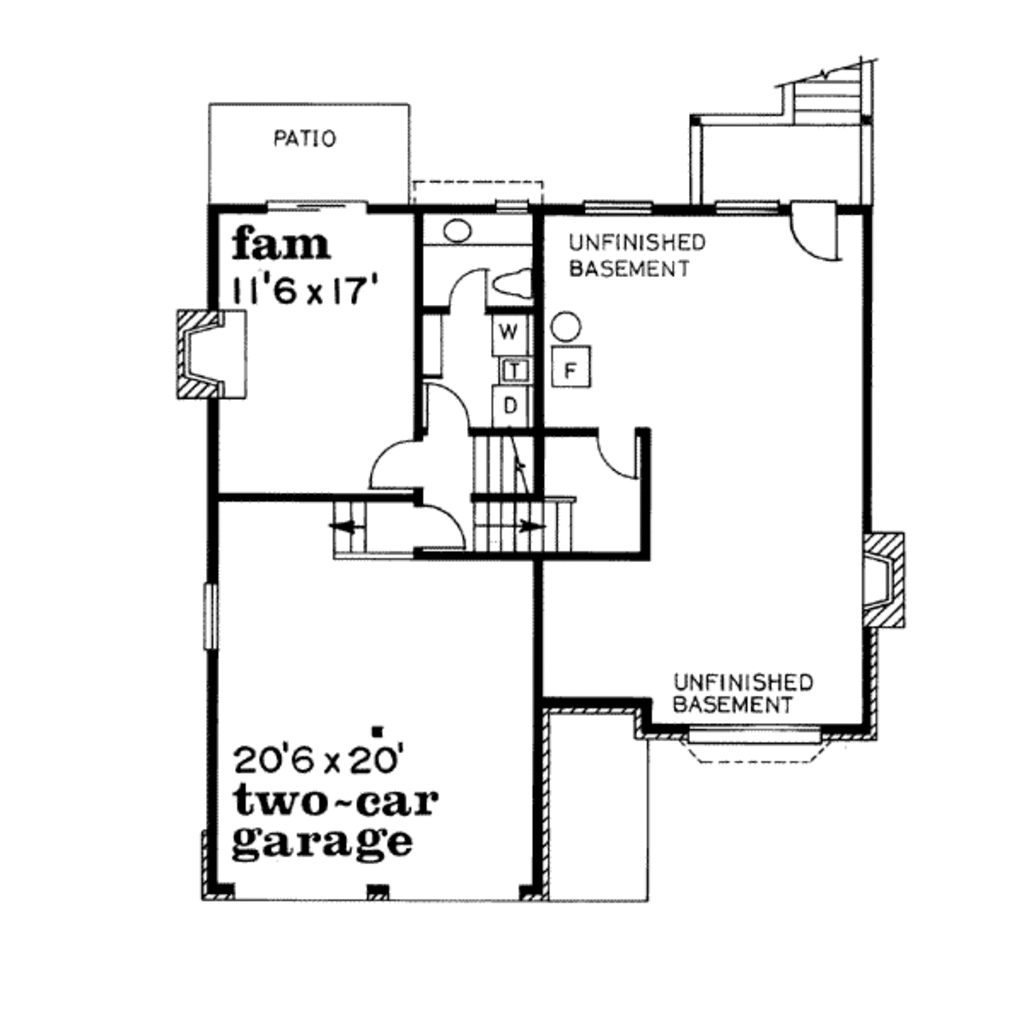door: (786, 199, 852, 264), (583, 422, 656, 478), (417, 497, 475, 555), (363, 439, 425, 492), (420, 382, 478, 436), (439, 264, 494, 316)
large_sink: (497, 263, 545, 307)
small_sink: (428, 210, 494, 242)
stairs: (478, 433, 583, 555), (767, 50, 878, 128), (327, 499, 394, 566)
window: (709, 192, 792, 227), (197, 577, 231, 661), (578, 191, 661, 219)
